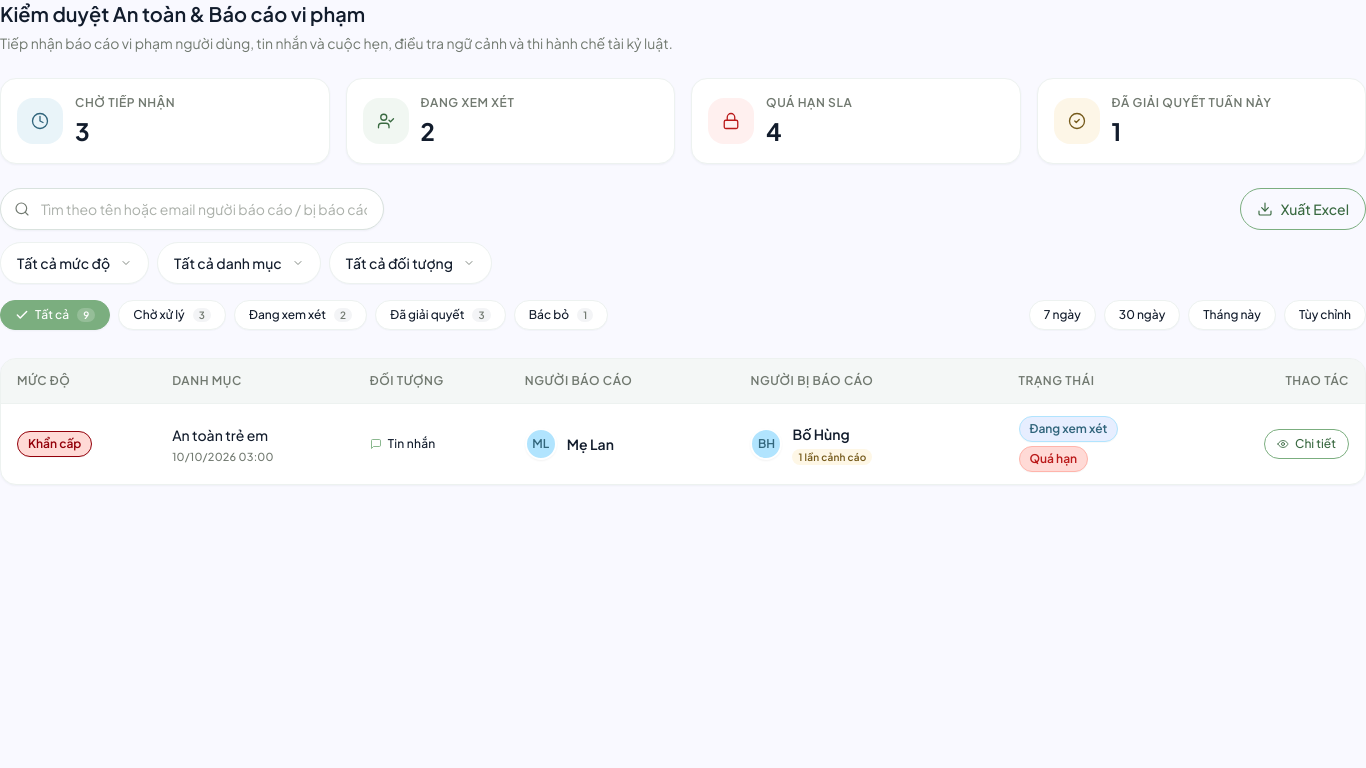
it: AdminReportsPage › investigation drawer › footer › holds the closing actions of a reviewing report, with the notes left in the body
This screenshot has width=1366, height=768.
Expected: the text "Bố Hùng" is shown, [792,425,850,443]
Click the button "Chi tiết" at [1306, 444], box [1264,429,1349,459]
(page scrolled)
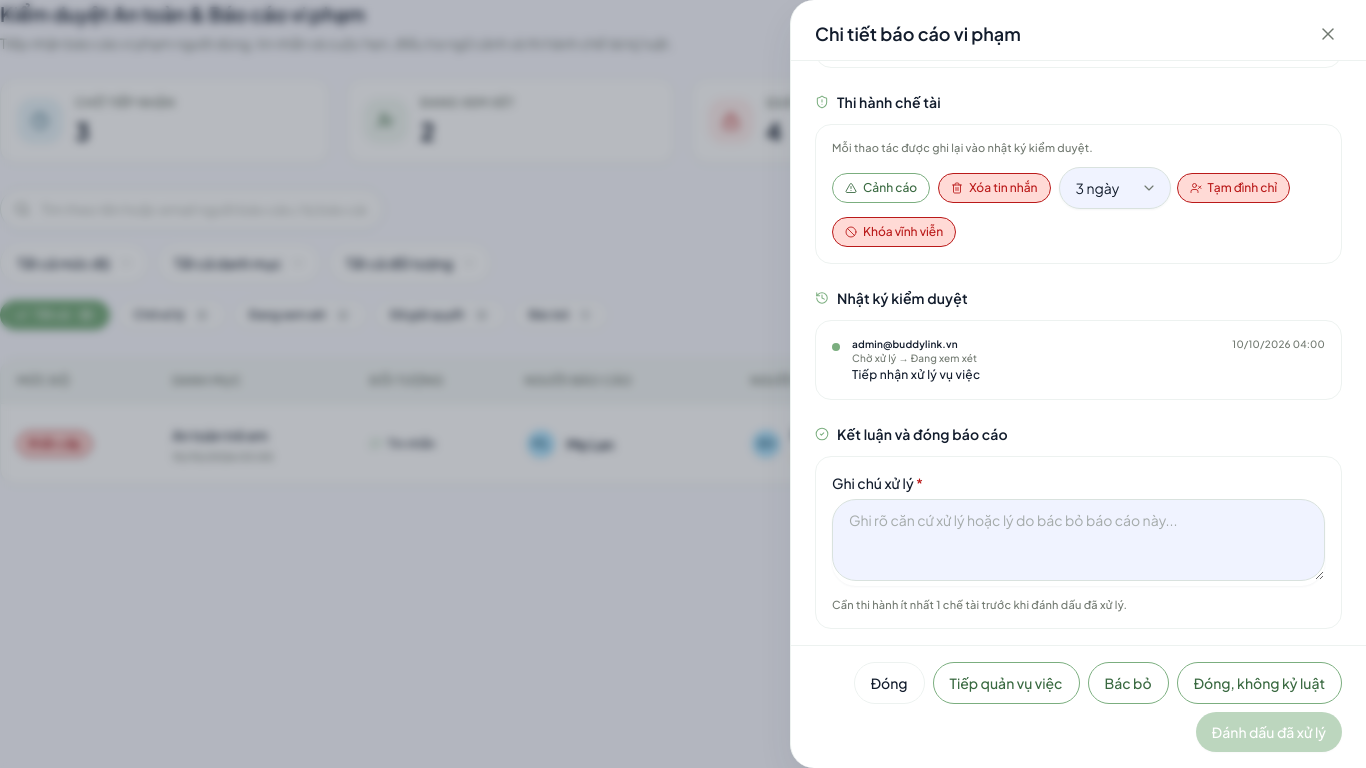
Now the heading "Chi tiết báo cáo vi phạm" is shown, box [815,20,1021,48]
Now the text box labelled "Ghi chú xử lý *" is shown, box [832,499,1325,581]
